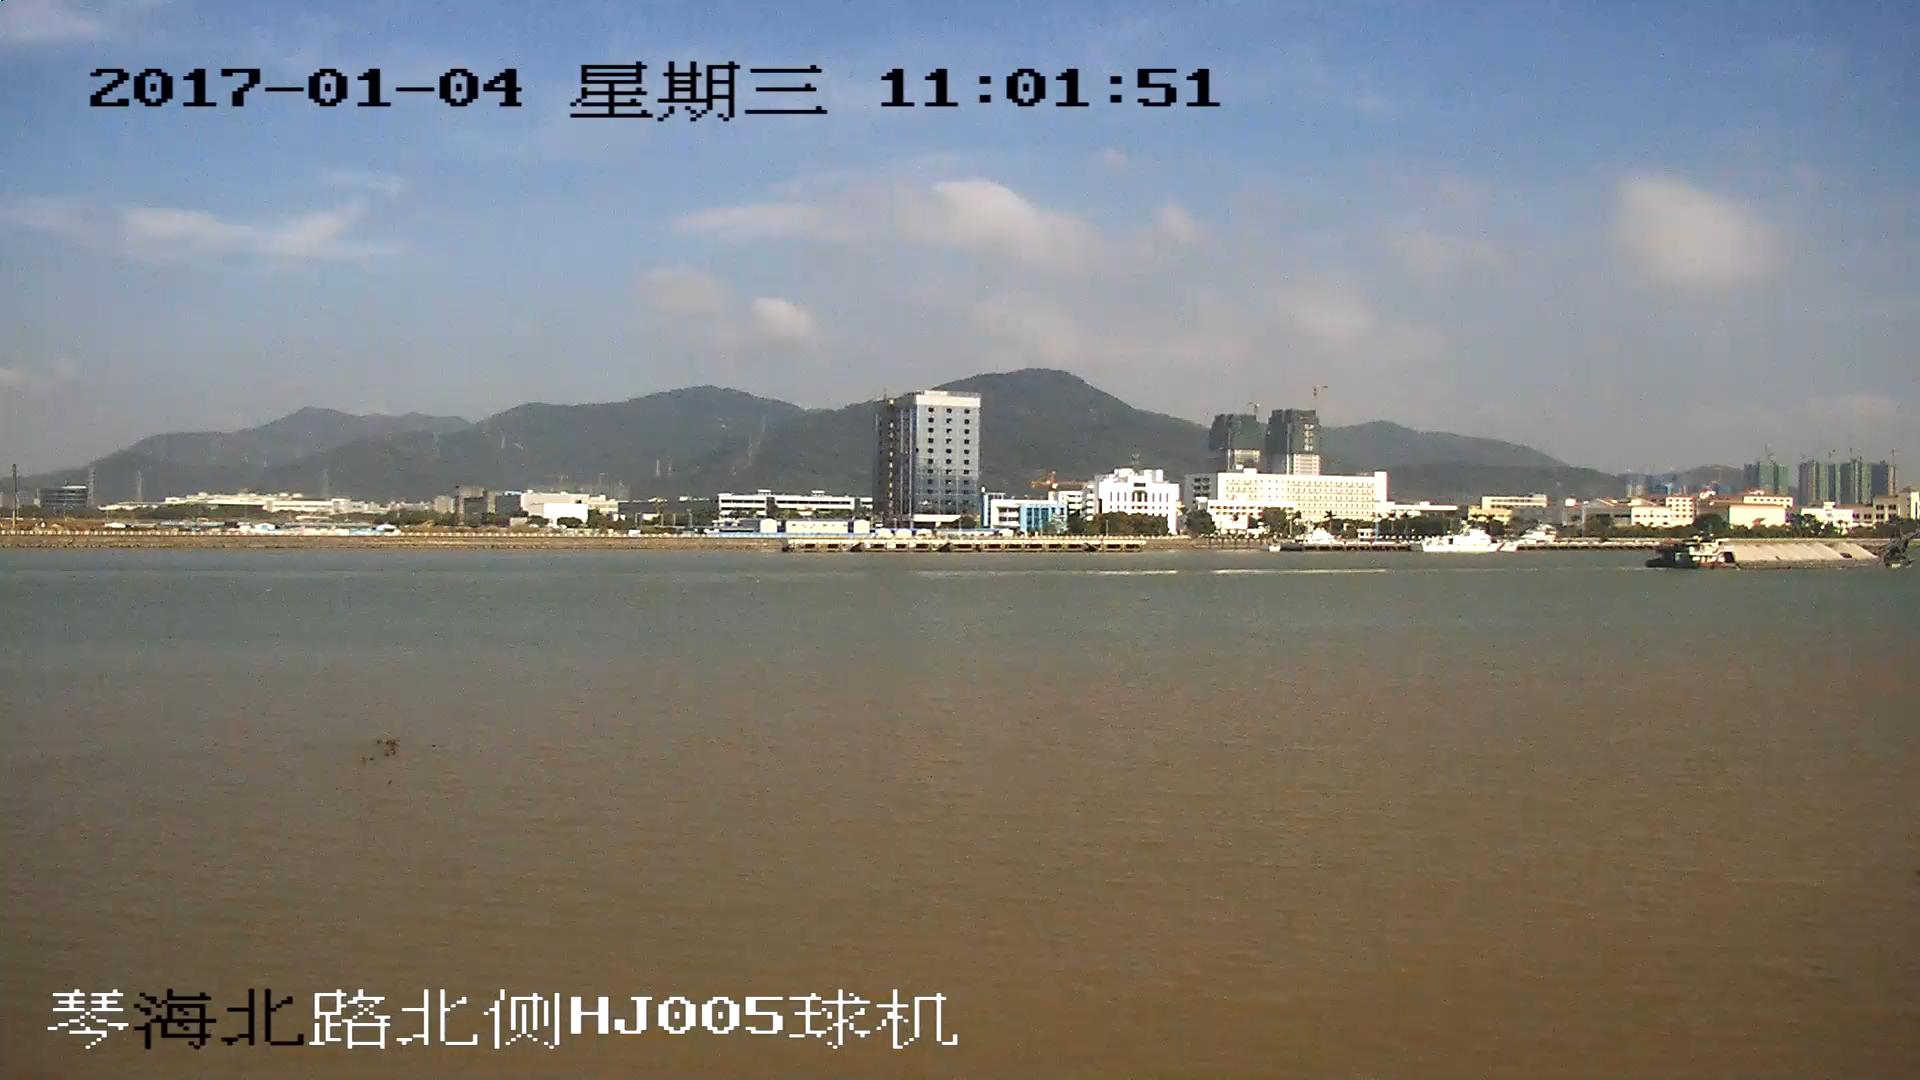ore carrier: (1655, 528, 1920, 572)
